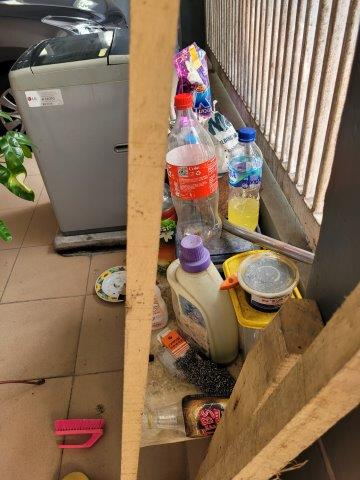botolplastik: (169, 94, 221, 250), (143, 392, 236, 433), (230, 129, 263, 239)
